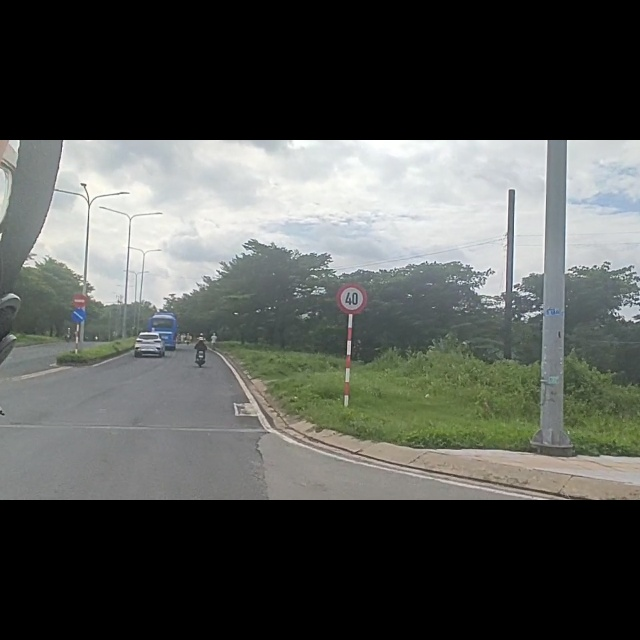bien_cam: (337, 254, 370, 313), (71, 271, 90, 299), (69, 299, 87, 325)
